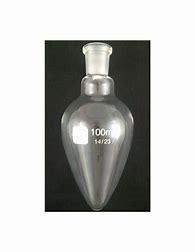Pear shaped flask: (59, 40, 135, 207)
